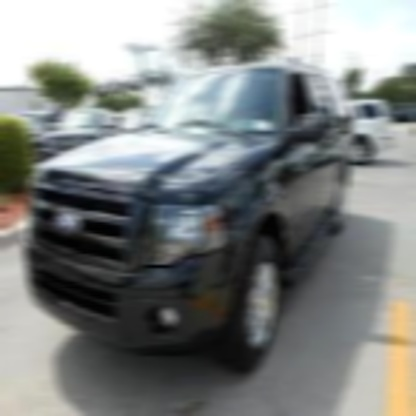Vehicle: (19, 63, 358, 378)
